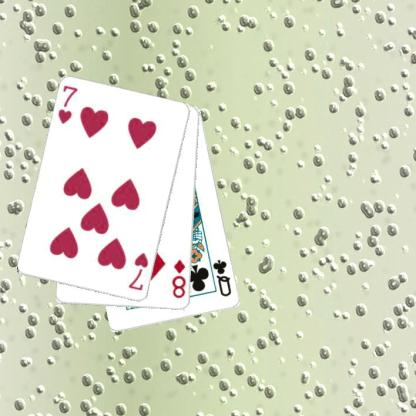7H: (126, 250, 150, 293), (56, 83, 80, 126)
8D: (170, 257, 187, 300)
QC: (210, 257, 233, 298)
